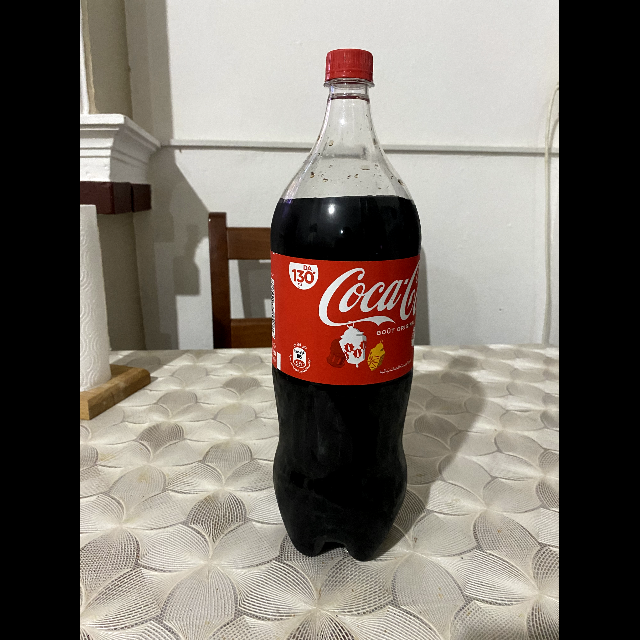coca-cola GB: (270, 47, 420, 564)
